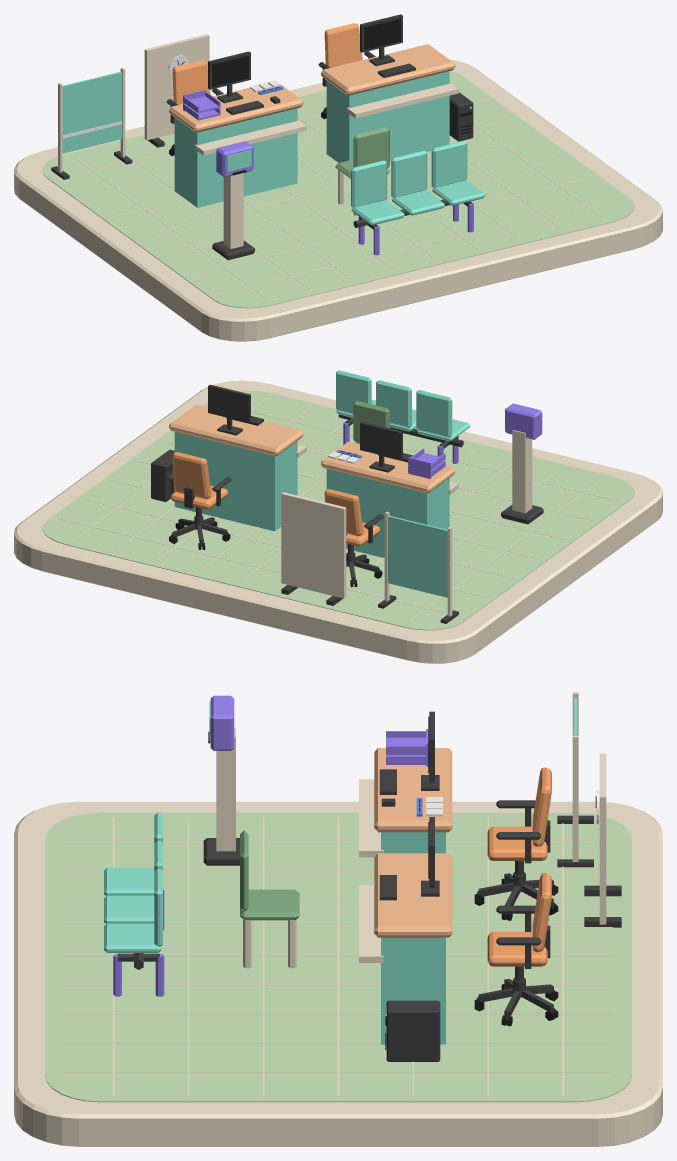
3 renders of one model, top to bottom at view 1: azimuth 30°, elevation 25°; view 2: azimuth 150°, elevation 25°; view 3: azimuth 270°, elevation 25°, orthographic. The views are drawn at different scales.
Visible parts, largest first — view 1: COM-02 Floor Surface, COM-01 Rounded Base Direct, Counter body, Counter body.001, Frosted privacy panel, Panel, Countertop.001, Countertop, COM-04_Chair_blender_direct.001, Pedestal, Frame, Frame.001 (+15 smaller); view 2: COM-02 Floor Surface, COM-01 Rounded Base Direct, Counter body.001, Panel, Counter body, Frosted privacy panel, COM-04_Chair_blender_direct.001, Countertop.001, Countertop, COM-04_Chair_blender_direct, Pedestal, Back (+10 smaller); view 3: COM-02 Floor Surface, COM-01 Rounded Base Direct, Countertop.001, COM-04_Chair_blender_direct.001, COM-04_Chair_blender_direct, Counter body.001, Countertop, Tower, Pedestal, Seat.003, Seat.002, Seat.001 (+13 smaller).
Boxes of the visible parts, box(x1,y1,x2,y2) form: COM-02 Floor Surface: box(42, 71, 634, 308); COM-01 Rounded Base Direct: box(14, 59, 662, 341); Counter body: box(174, 108, 297, 207); Counter body.001: box(326, 71, 449, 162); Frosted privacy panel: box(62, 71, 122, 153); Panel: box(144, 34, 209, 140); Countertop.001: box(321, 44, 455, 95); Countertop: box(169, 83, 303, 132); COM-04_Chair_blender_direct.001: box(318, 23, 375, 118); Pedestal: box(223, 173, 243, 248); Frame: box(208, 51, 250, 103); Frame.001: box(360, 14, 402, 66); COM-02 Floor Surface: box(42, 390, 634, 630); COM-01 Rounded Base Direct: box(14, 380, 662, 663); Counter body.001: box(174, 432, 297, 531); Panel: box(281, 492, 346, 598); Counter body: box(326, 469, 449, 557); Frosted privacy panel: box(388, 515, 447, 597); COM-04_Chair_blender_direct.001: box(166, 452, 231, 549); Countertop.001: box(169, 404, 303, 456); Countertop: box(321, 442, 455, 493); COM-04_Chair_blender_direct: box(324, 489, 383, 587); Pedestal: box(512, 430, 532, 513); Back: box(416, 390, 452, 437); COM-02 Floor Surface: box(45, 812, 631, 1102); COM-01 Rounded Base Direct: box(14, 801, 662, 1146); Countertop.001: box(374, 853, 452, 937); COM-04_Chair_blender_direct.001: box(474, 873, 558, 1026); COM-04_Chair_blender_direct: box(474, 767, 558, 920); Counter body.001: box(381, 937, 445, 1044); Countertop: box(374, 748, 452, 832); Tower: box(386, 1000, 440, 1061); Pedestal: box(216, 728, 235, 851); Seat.003: box(240, 889, 299, 920); Seat.002: box(104, 923, 161, 952); Seat.001: box(104, 895, 154, 923).
Bounding box in the file's own units: 6 × 1.87 × 5.2.
1 material, 1 textured.
